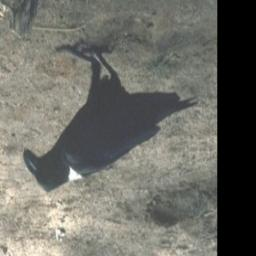Crow: (23, 40, 201, 195)
